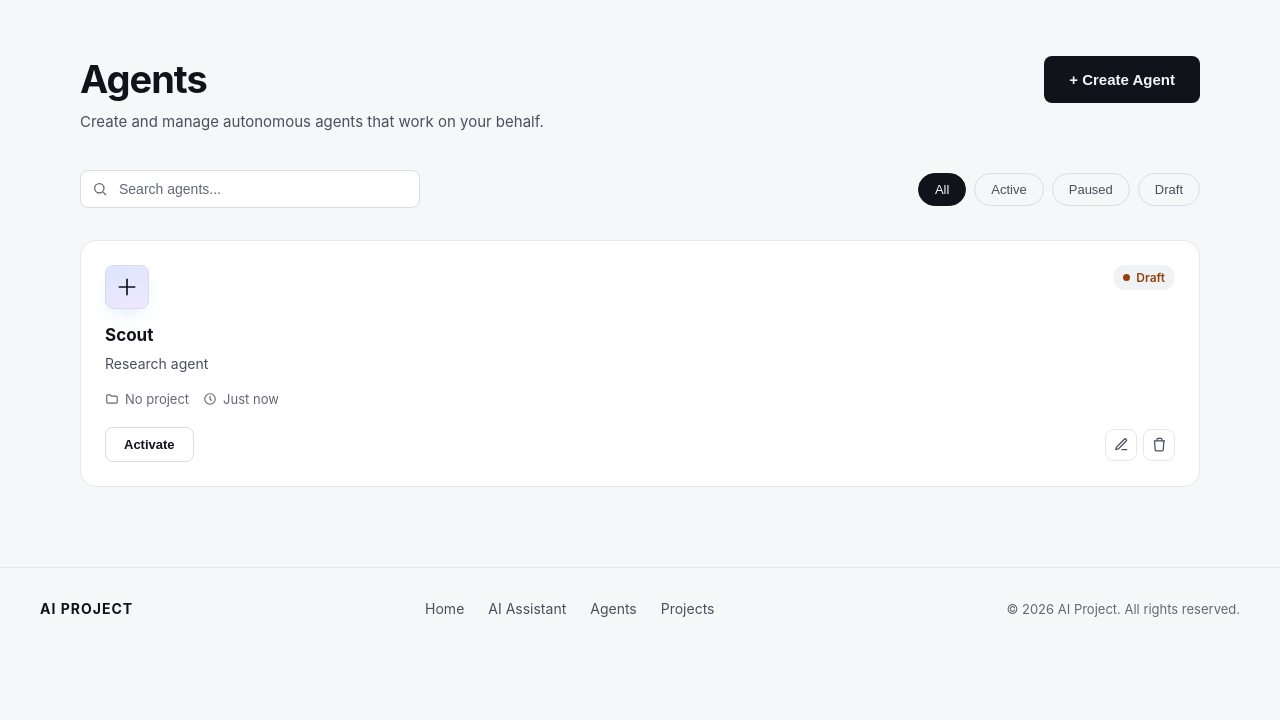
Test: Agents — mutations › does not remove the item from the cached list when a delete mutation fails
The image size is (1280, 720).
Expected: the heading "Scout" is shown, [105, 325, 153, 345]
Click the button named "Delete Scout": (1159, 445) [1143, 429, 1175, 461]
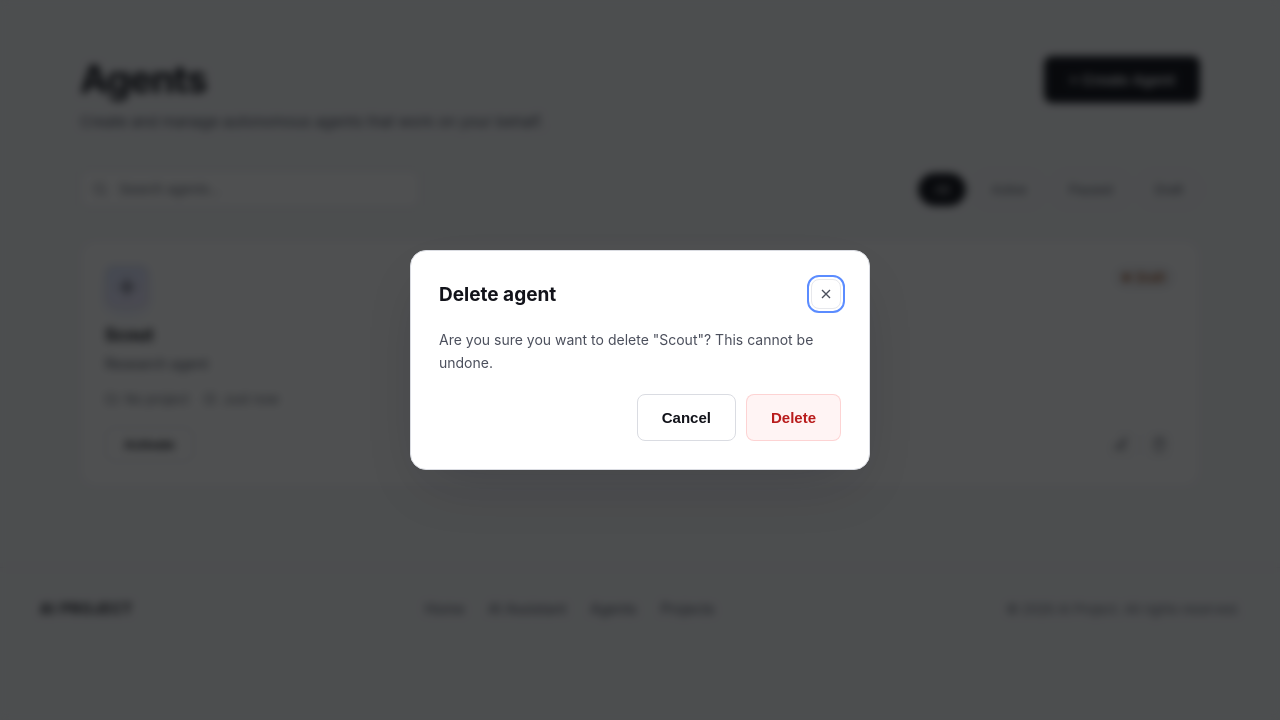
Click the button "Delete": (794, 417) [746, 394, 841, 441]
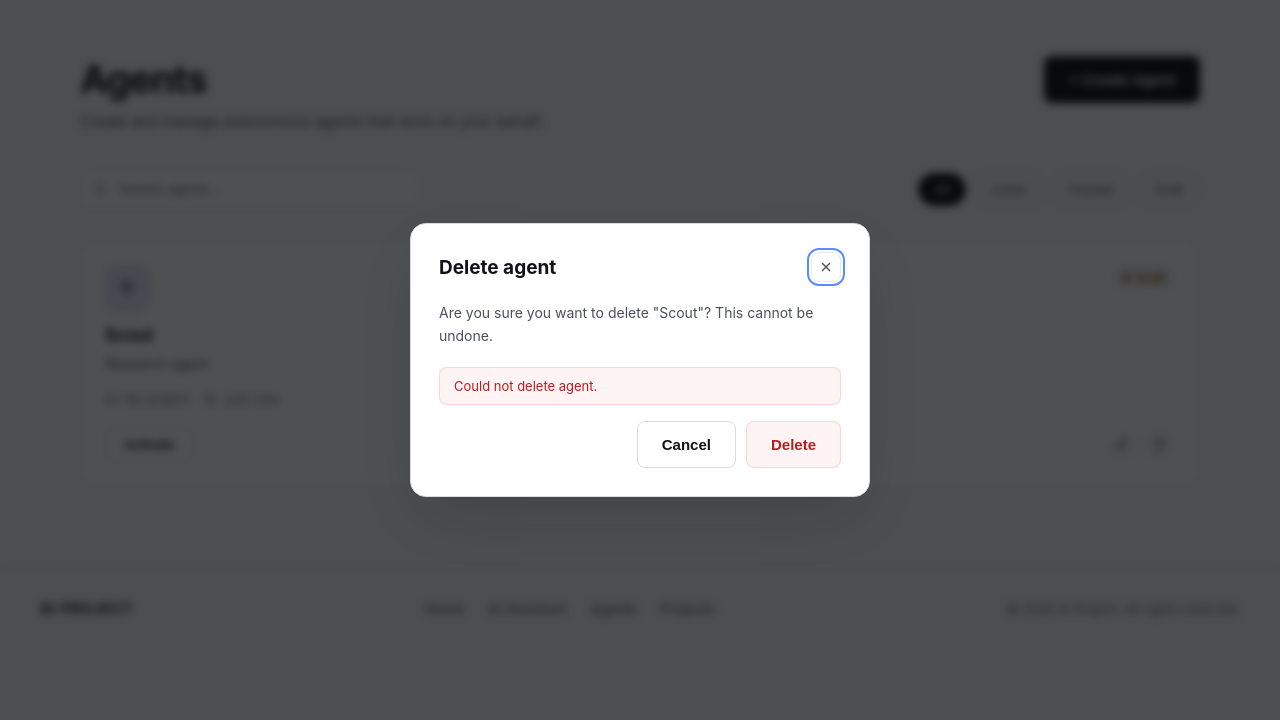
Expected: the heading "Scout" is shown, [105, 325, 153, 345]
Expected: the heading "Delete agent" is shown, [439, 256, 556, 279]
Expected: the text "Could not delete agent." is shown, [439, 367, 841, 405]
